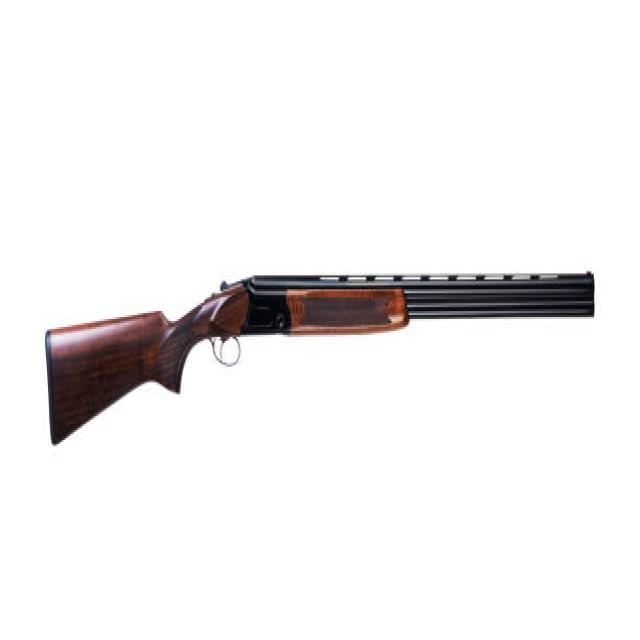rifle: (44, 251, 600, 456)
